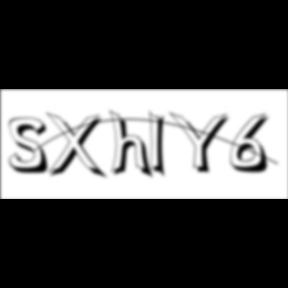6: (230, 112, 276, 176)
S: (9, 117, 55, 176)
X: (46, 112, 110, 182)
Y: (168, 110, 235, 176)
h: (110, 108, 156, 182)
l: (150, 108, 172, 182)
